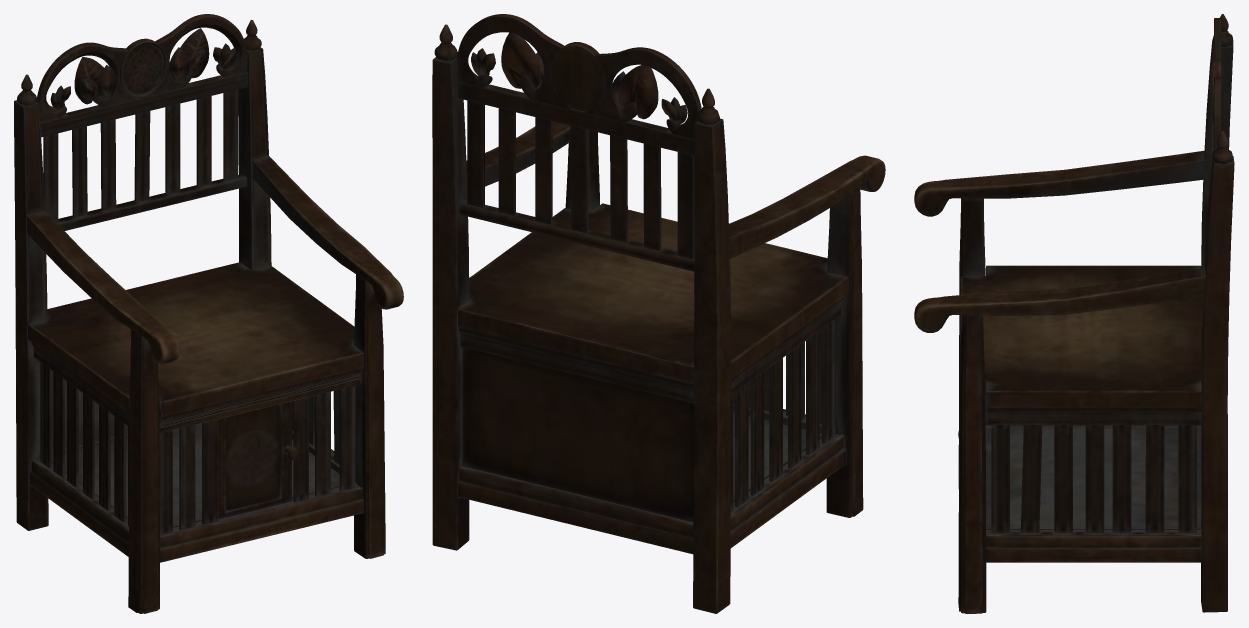
File: gallinera_chair.glb
The picture shows the model from 3 angles, left to right: view 1: azimuth 30°, elevation 25°; view 2: azimuth 150°, elevation 25°; view 3: azimuth 270°, elevation 25°; orthographic projection. The views are drawn at different scales.
Parts seen in each view (by area): view 1: gallinera_chair; view 2: gallinera_chair; view 3: gallinera_chair.
Part boxes in pixels (x1,y1,x2,y2): gallinera_chair: [14, 14, 403, 613]; gallinera_chair: [432, 14, 885, 613]; gallinera_chair: [914, 14, 1234, 613].
Bounding box in the file's own units: 0.5808 × 1.03 × 0.6039.
1 material, 1 textured.
